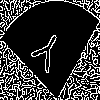Y: (25, 25, 64, 82)
